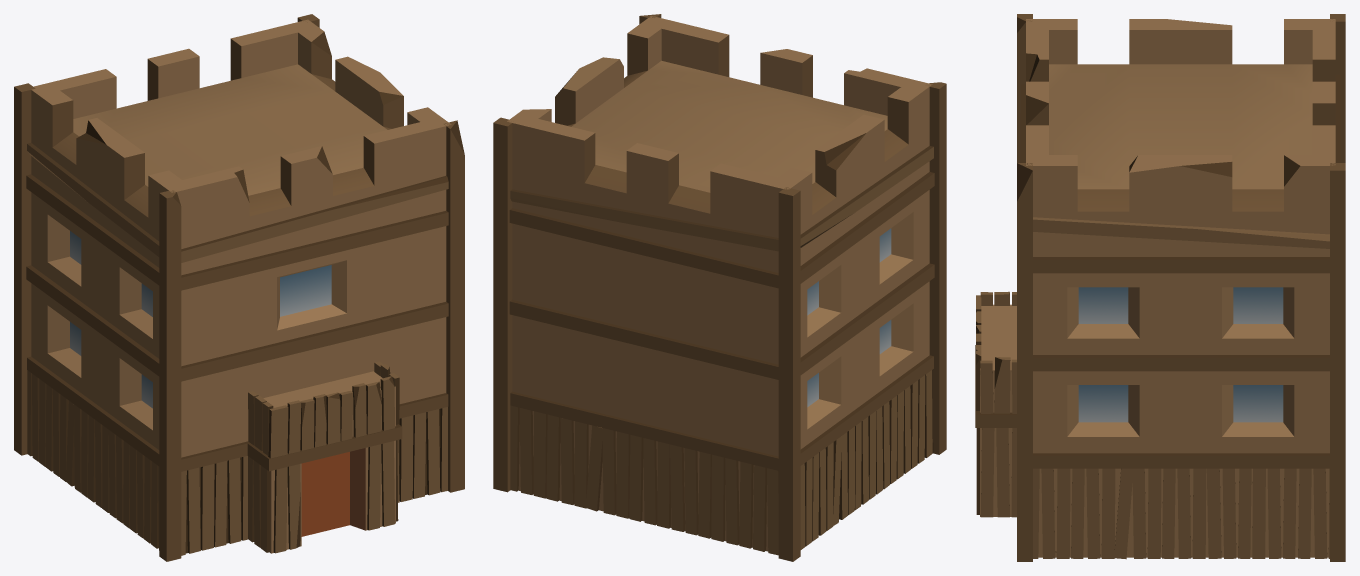
Rendered from Level2_WoodCastle.fbx.
3 renders of one model, left to right at view 1: azimuth 30°, elevation 25°; view 2: azimuth 150°, elevation 25°; view 3: azimuth 270°, elevation 25°, orthographic. The views are drawn at different scales.
Parts seen in each view (by area): view 1: Cube.011; view 2: Cube.011; view 3: Cube.011.
Boxes of the visible parts, x1,y1,x2,y2 form: Cube.011: (14,14,464,561); Cube.011: (493,14,946,561); Cube.011: (975,14,1345,561).
Size of the model in its own units: 1200 by 1400 by 1200.
